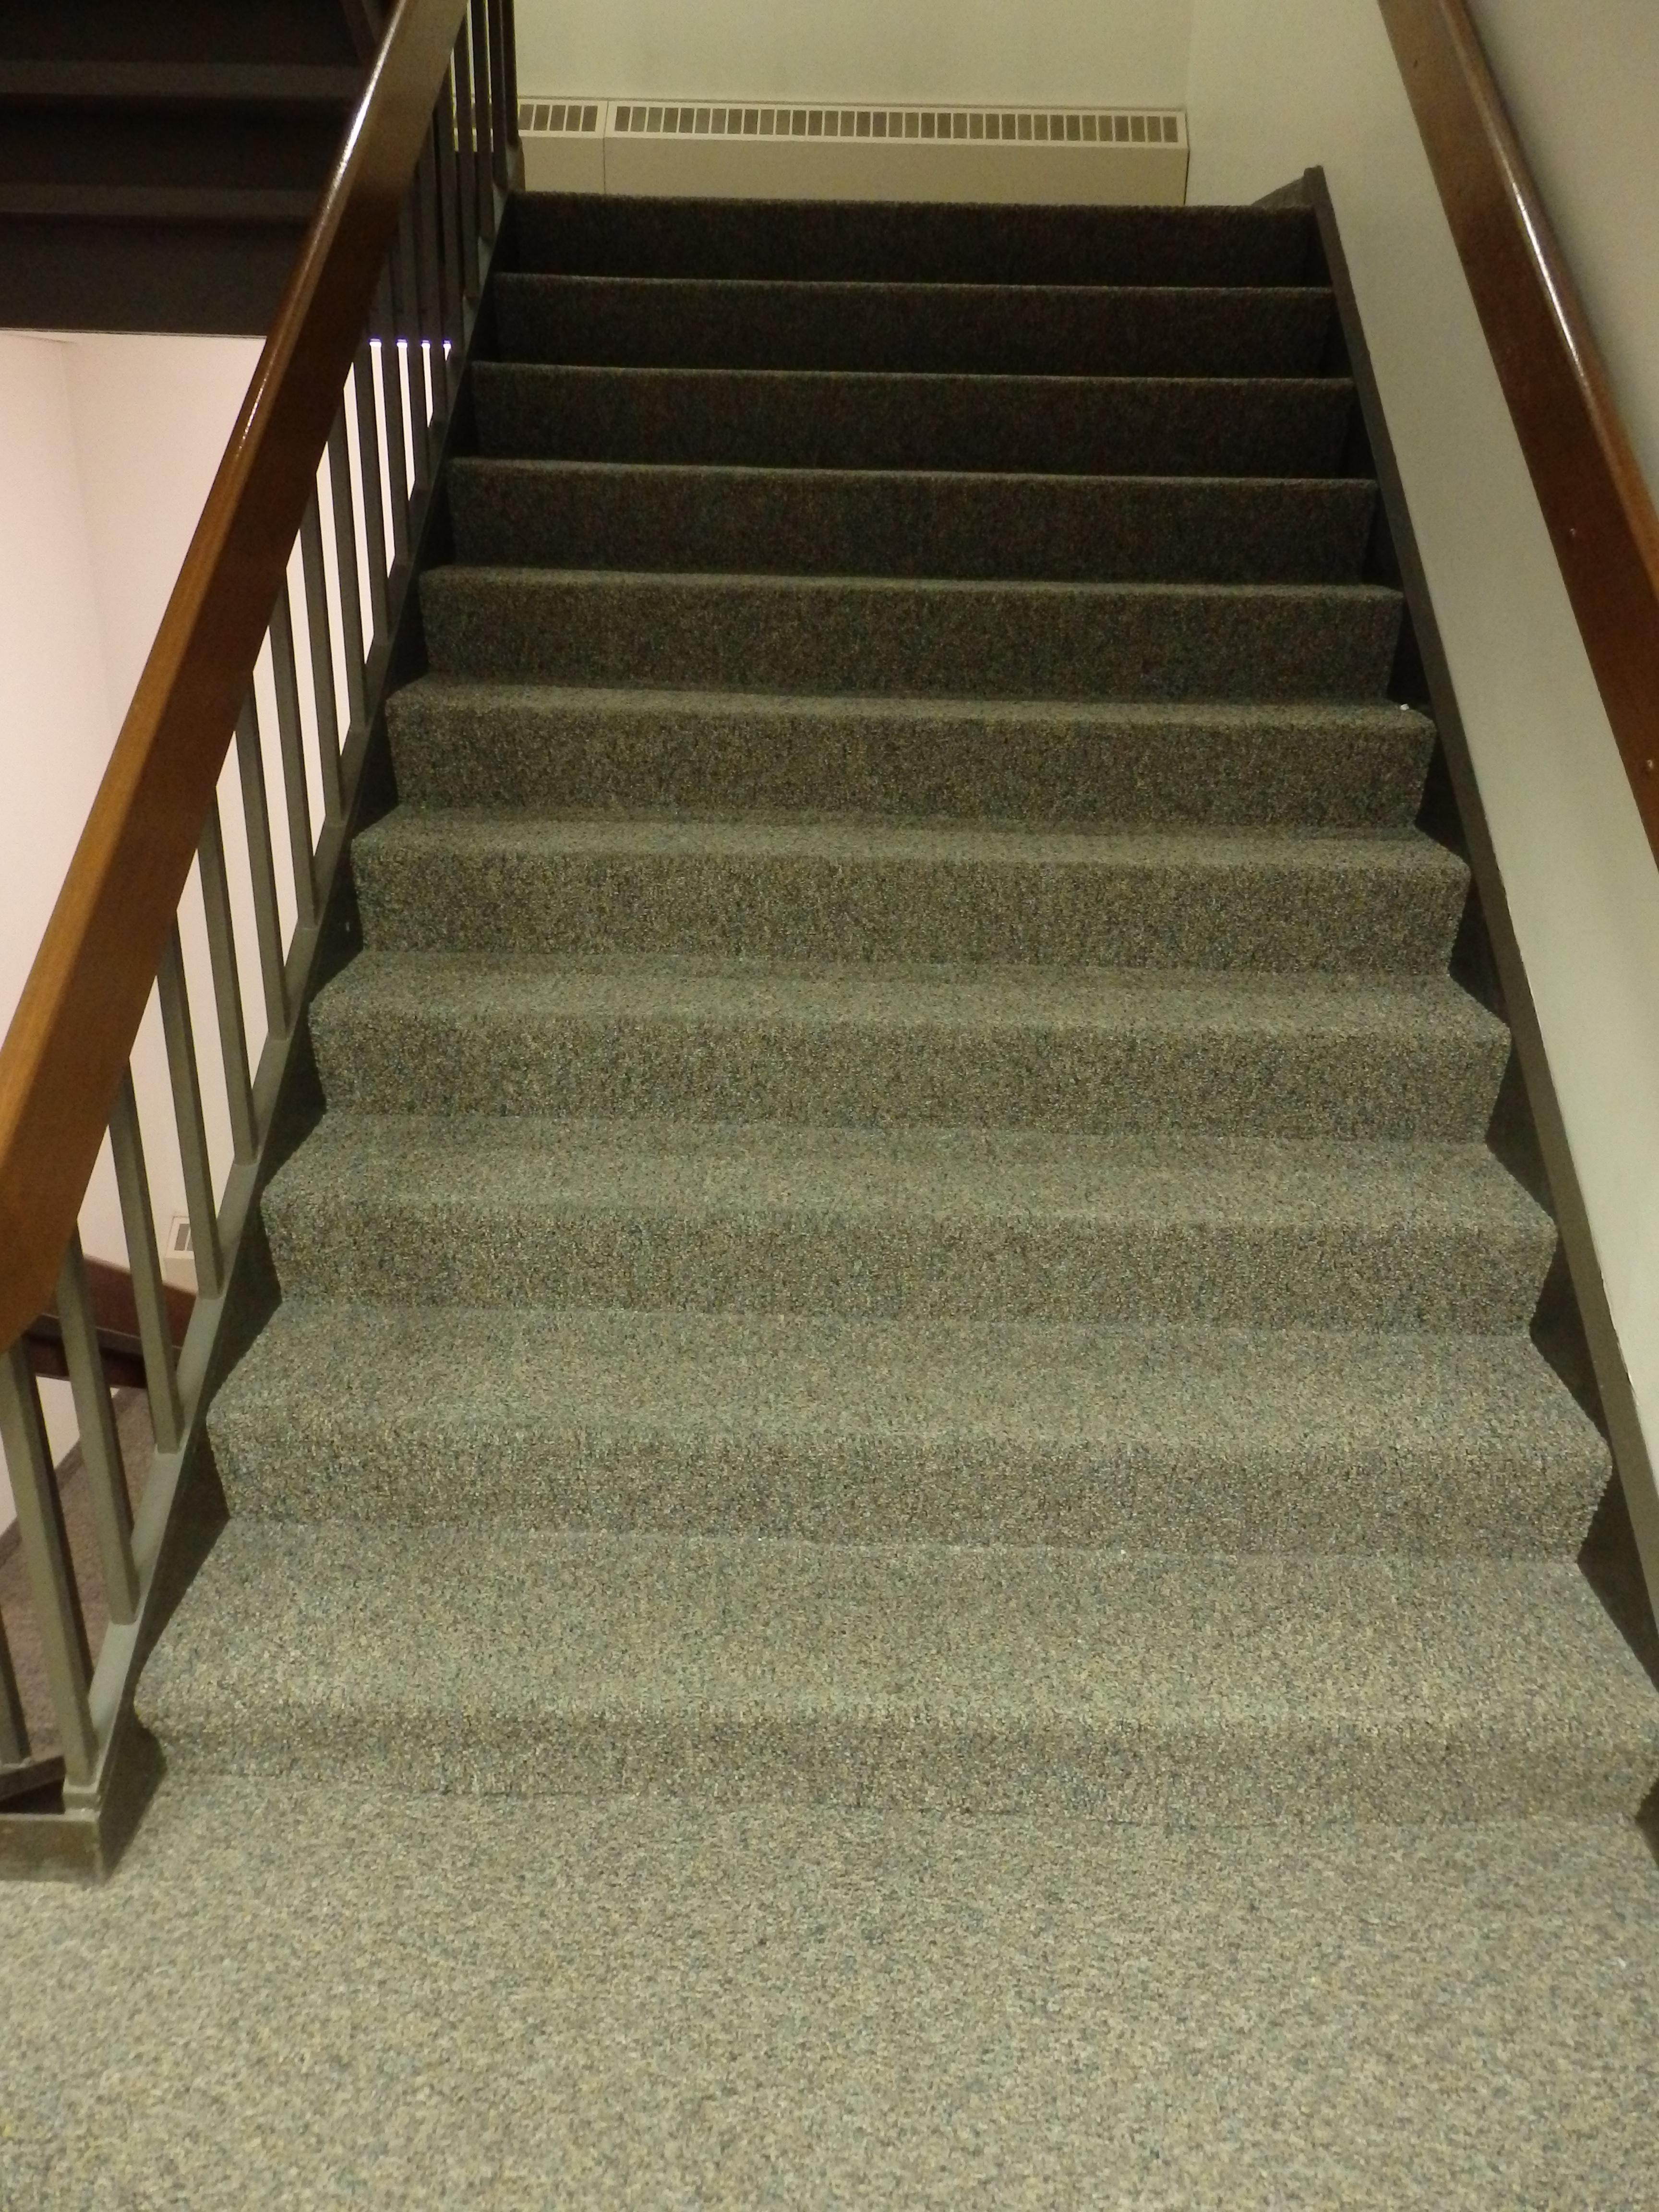stairs_up: (272, 145, 1560, 1815)
